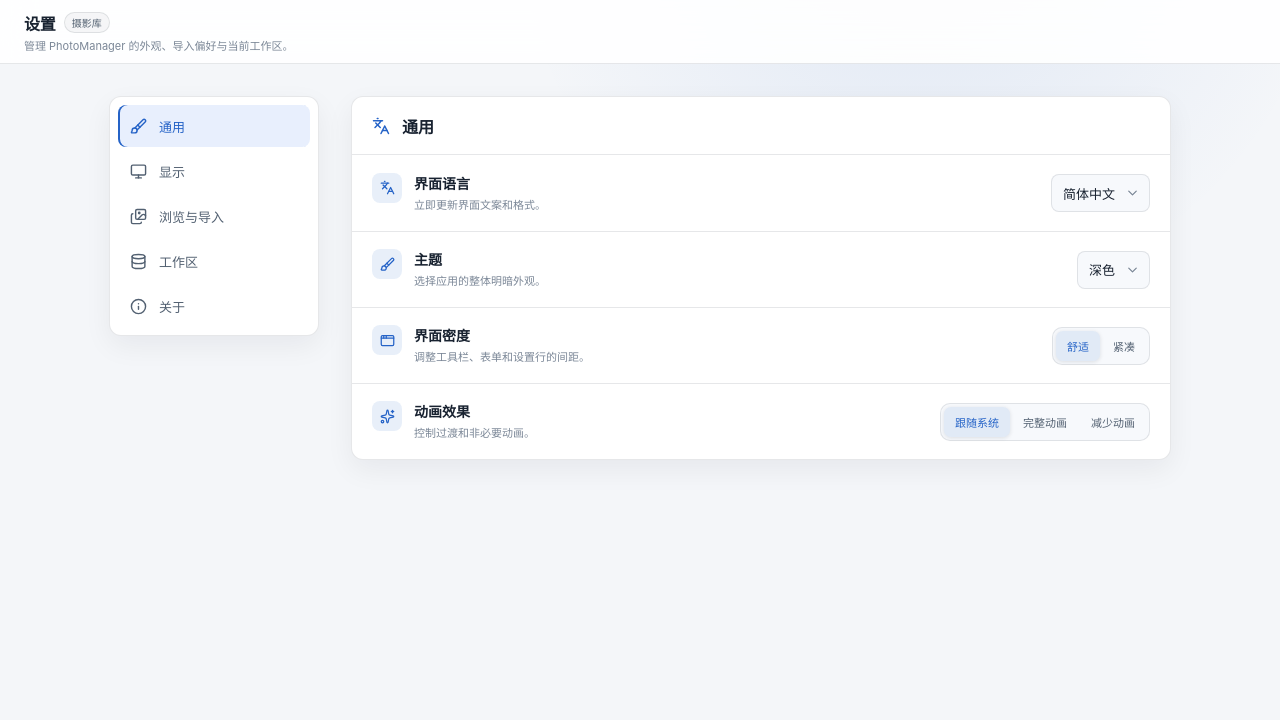
Test: SettingsPage › persists workspace import preferences and displays storage statistics
Click the button "浏览与导入" at {"x": 214, "y": 216}, box [118,195,310,237]
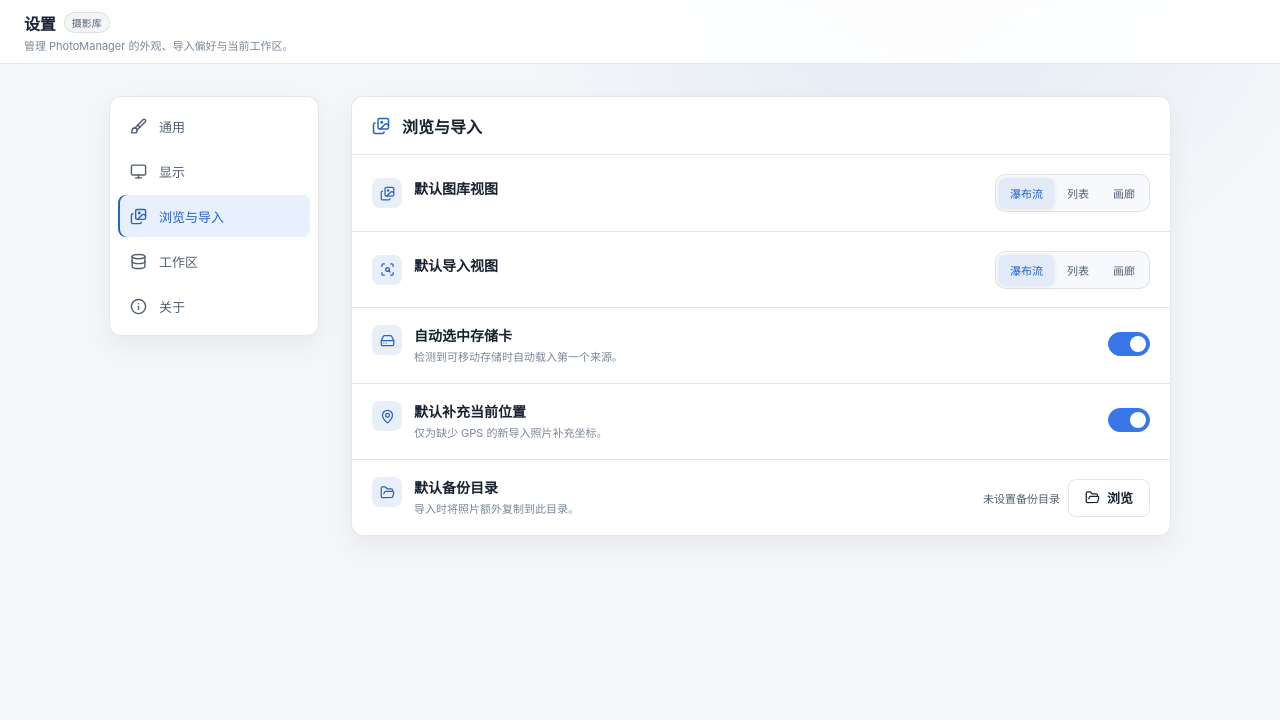
Click the switch named "自动选中存储卡" at {"x": 1129, "y": 344}, box [1108,332,1150,356]
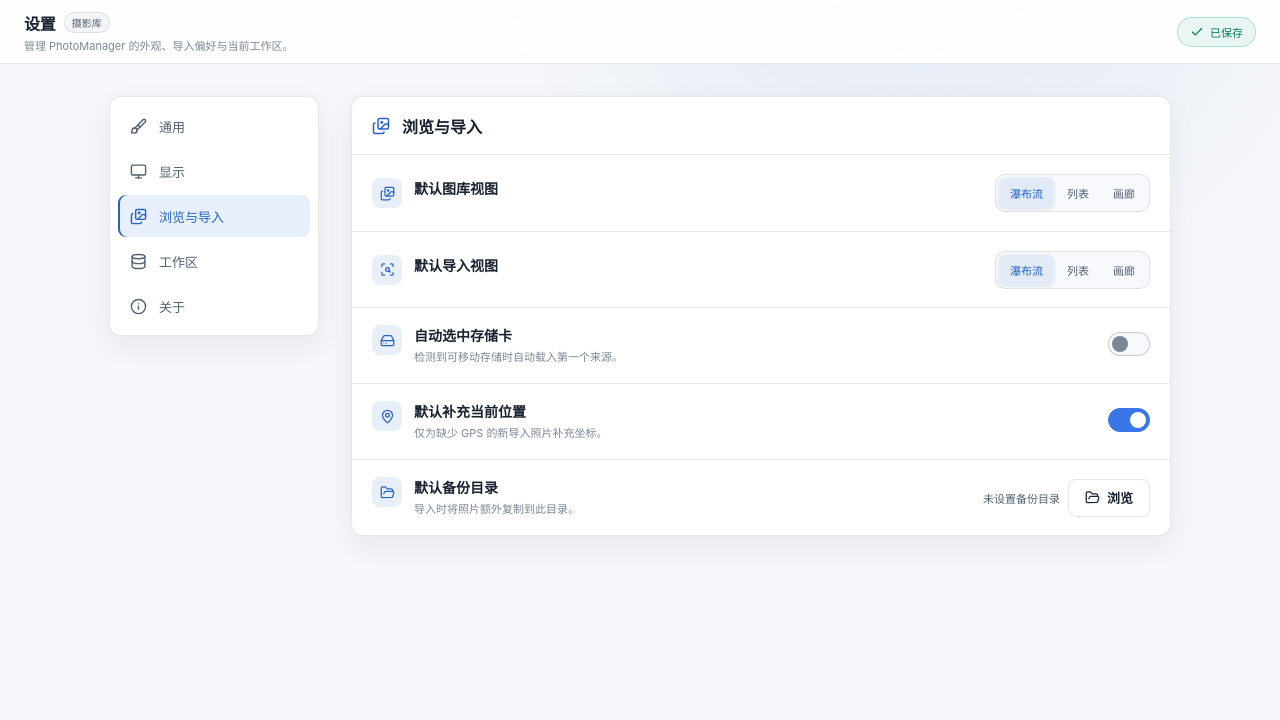
Click the button "浏览" at {"x": 1109, "y": 498}, box [1068,478,1150,516]
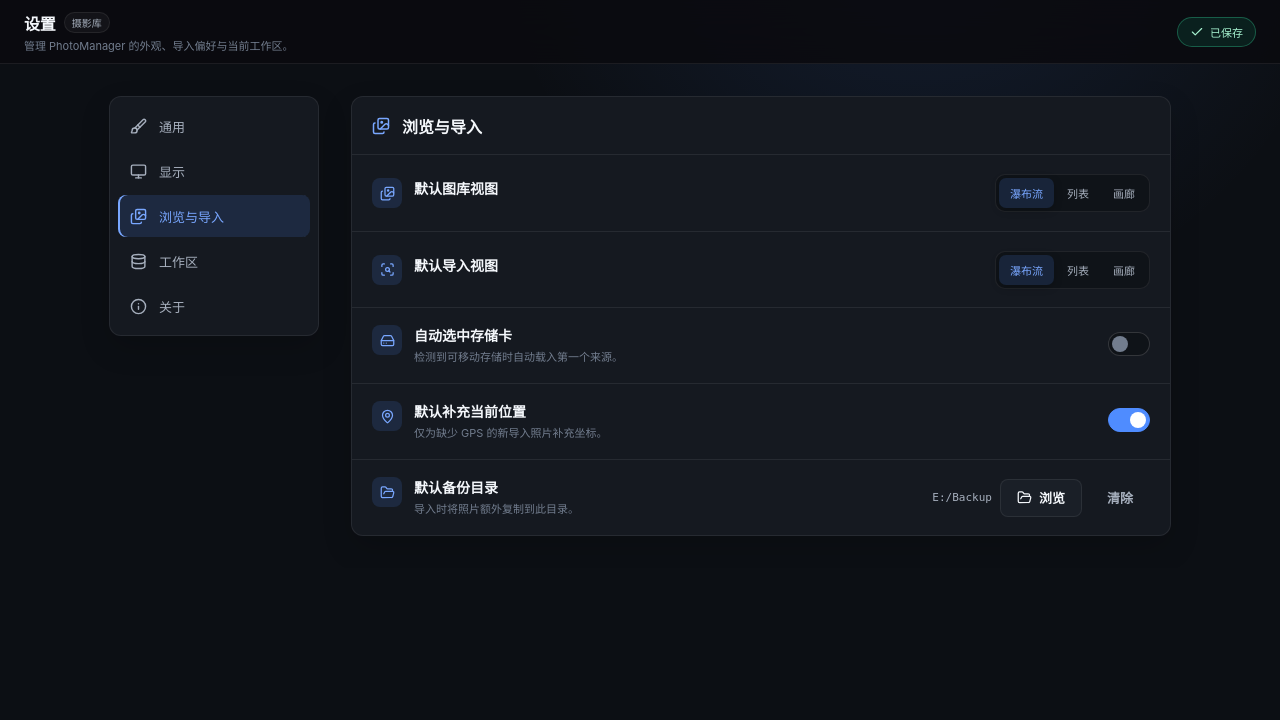
Click the button "工作区" at {"x": 214, "y": 261}, box [118,240,310,282]
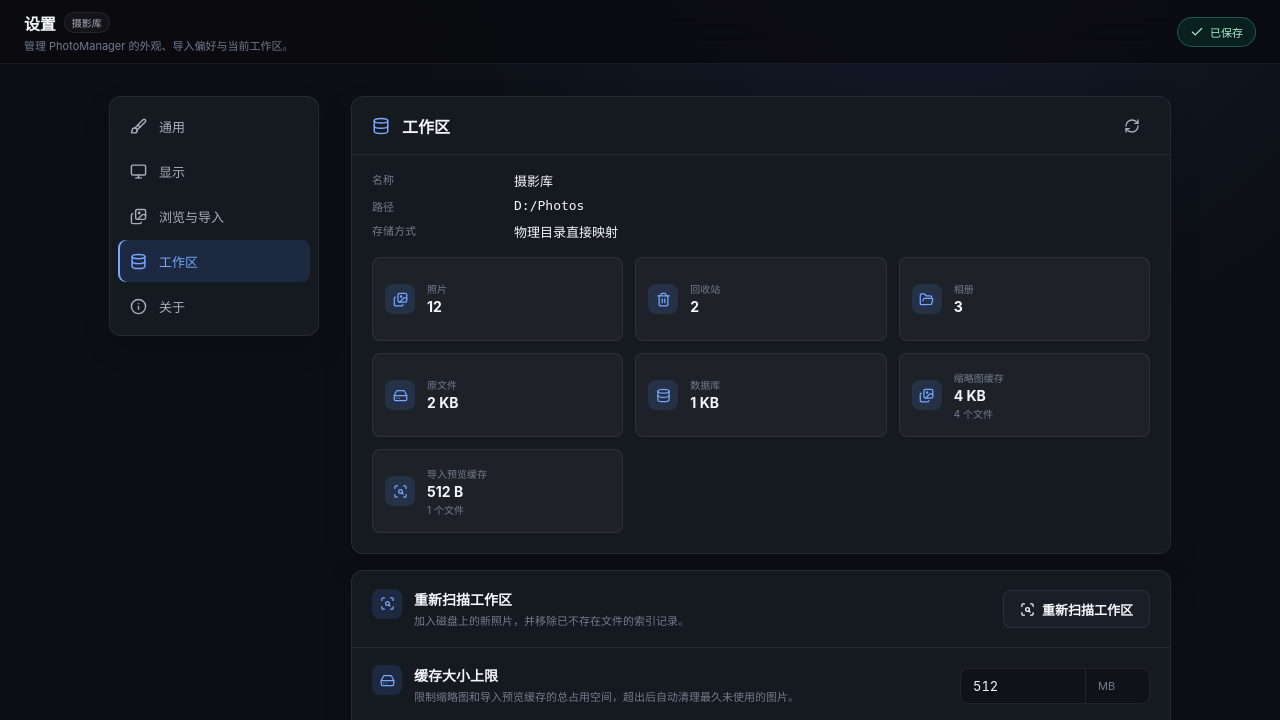
Expected: the text "D:/Photos" is shown, [514,198,584,213]
Expected: the text "4 KB" is shown, [954,386,986,404]
Expected: the text "12" is shown, [427,298,442,315]
